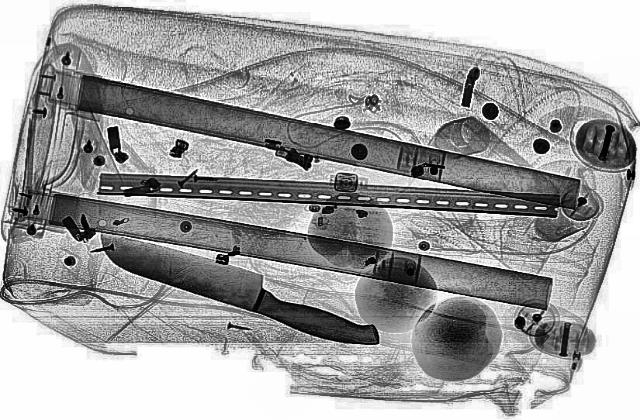Knife: (77, 224, 399, 354)
